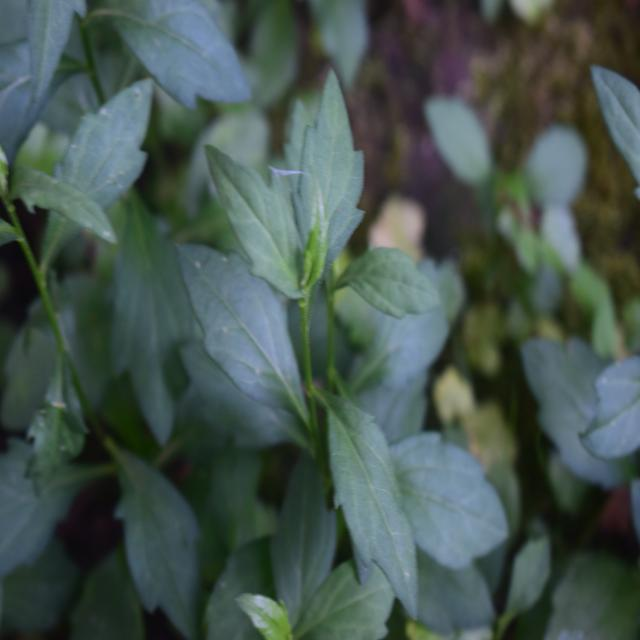Indian aster: (177, 82, 473, 577)
